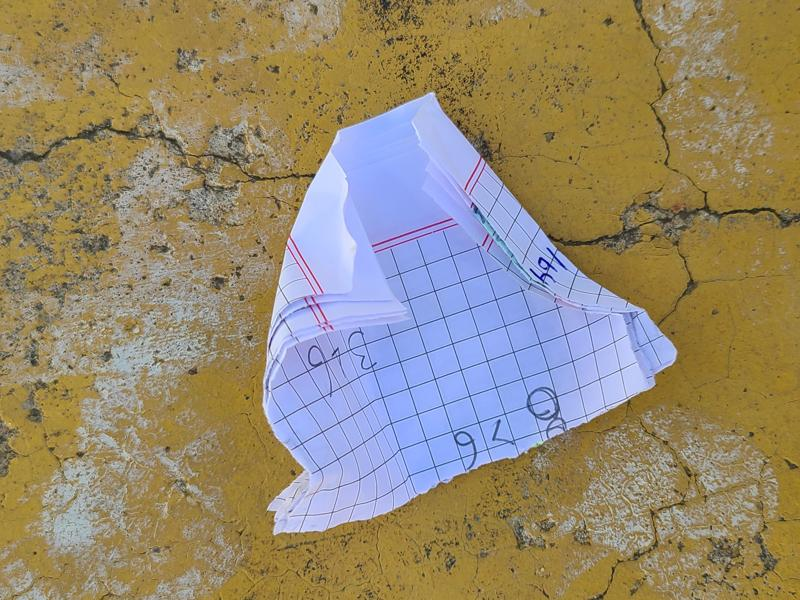papel: (261, 94, 676, 535)
